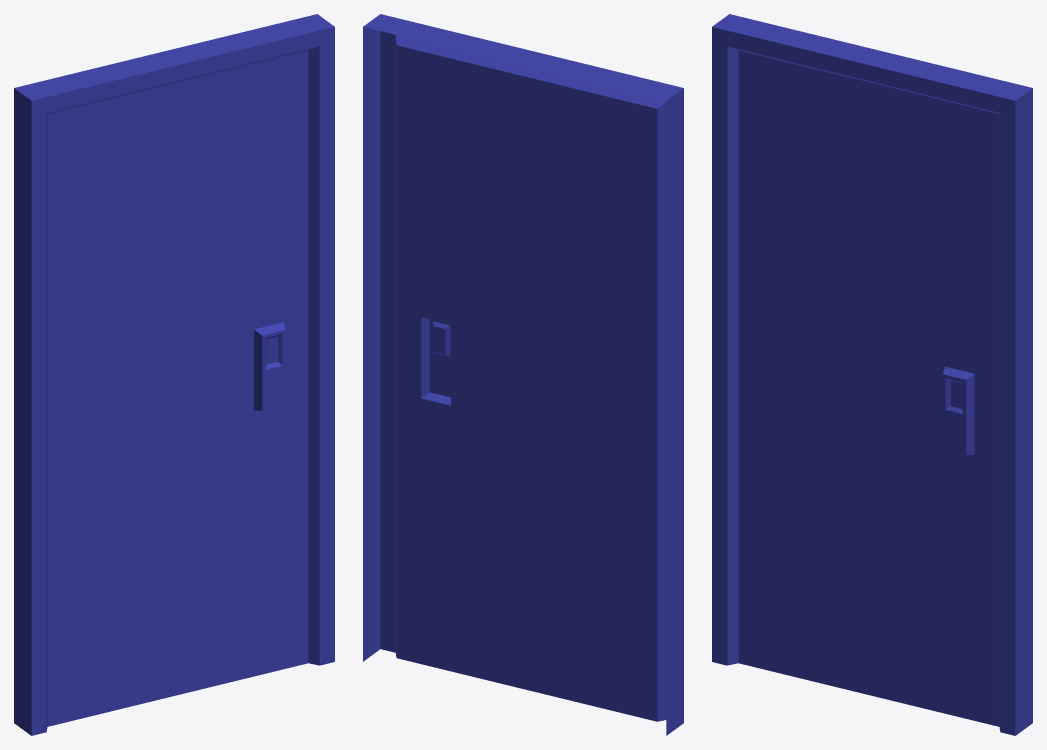
The model's file is doorStd.FBX.
3 views of the same model, side by side, from view 1: azimuth 30°, elevation 25°; view 2: azimuth 150°, elevation 25°; view 3: azimuth 330°, elevation 25° (orthographic).
Visible parts, largest first — view 1: doorStd; view 2: doorStd; view 3: doorStd.
Part boxes in pixels (<box>): doorStd: <box>14,14,334,735</box>; doorStd: <box>363,14,683,735</box>; doorStd: <box>712,14,1032,735</box>.
Bounding box in the file's own units: 2 × 4 × 0.2.
